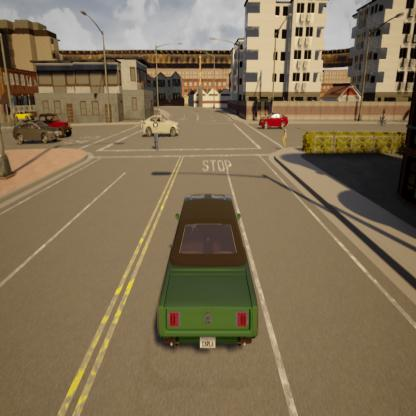Cars: (152, 177, 268, 363), (14, 118, 60, 145), (140, 112, 181, 136), (40, 111, 72, 139), (260, 108, 289, 132), (150, 114, 161, 155), (375, 105, 388, 129)
Pedestrian: (280, 120, 289, 149)
